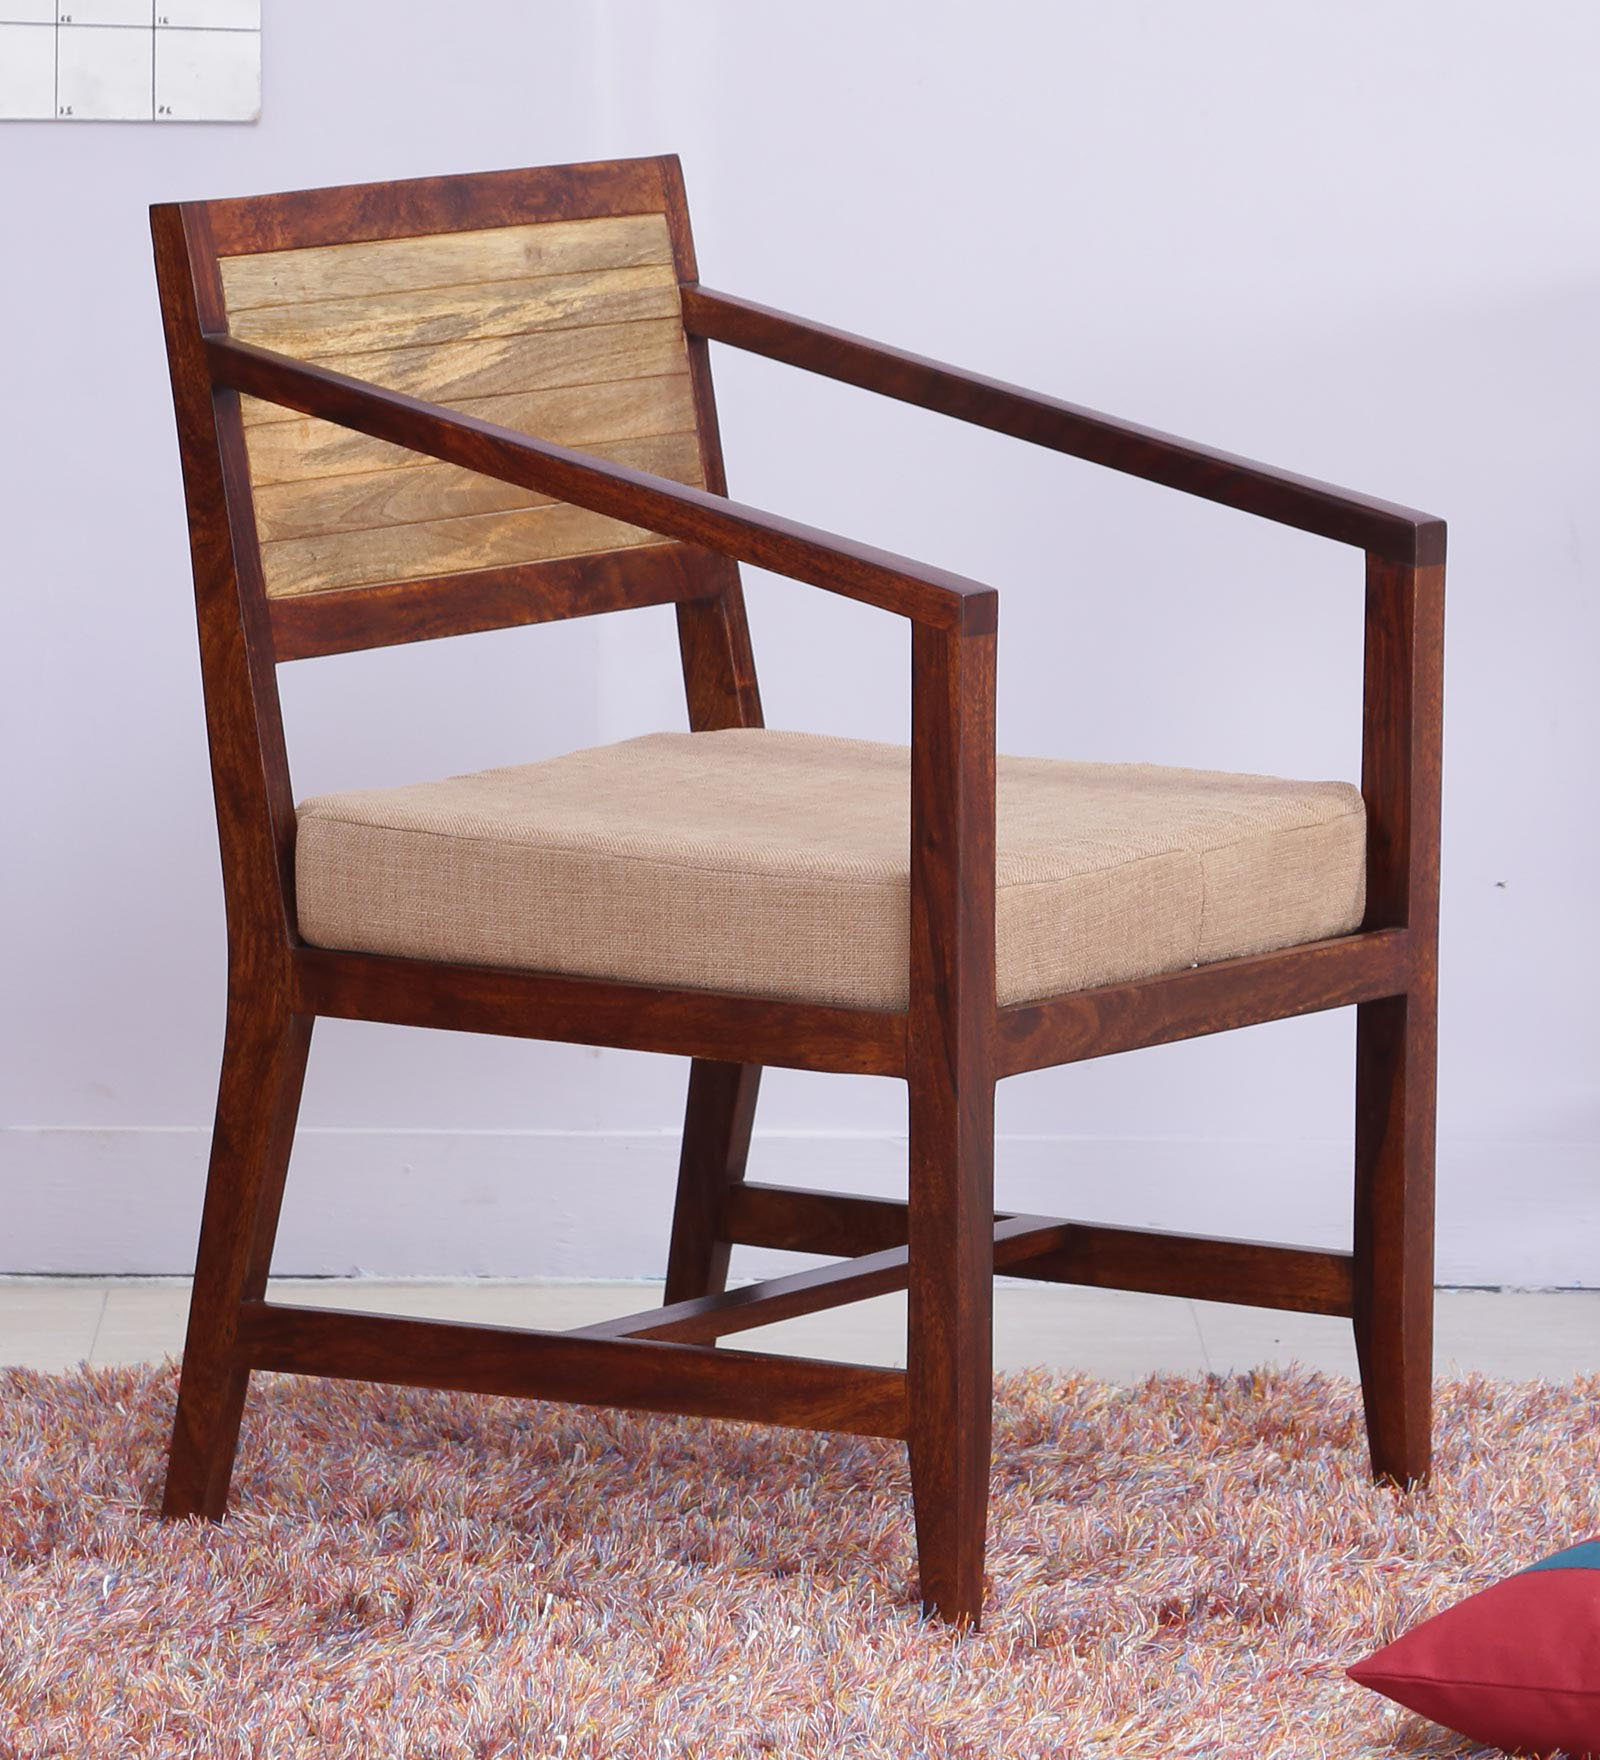Anitz Arm Chair in Dual Tone Finish by Woodsworth: (130, 127, 1468, 1670)
